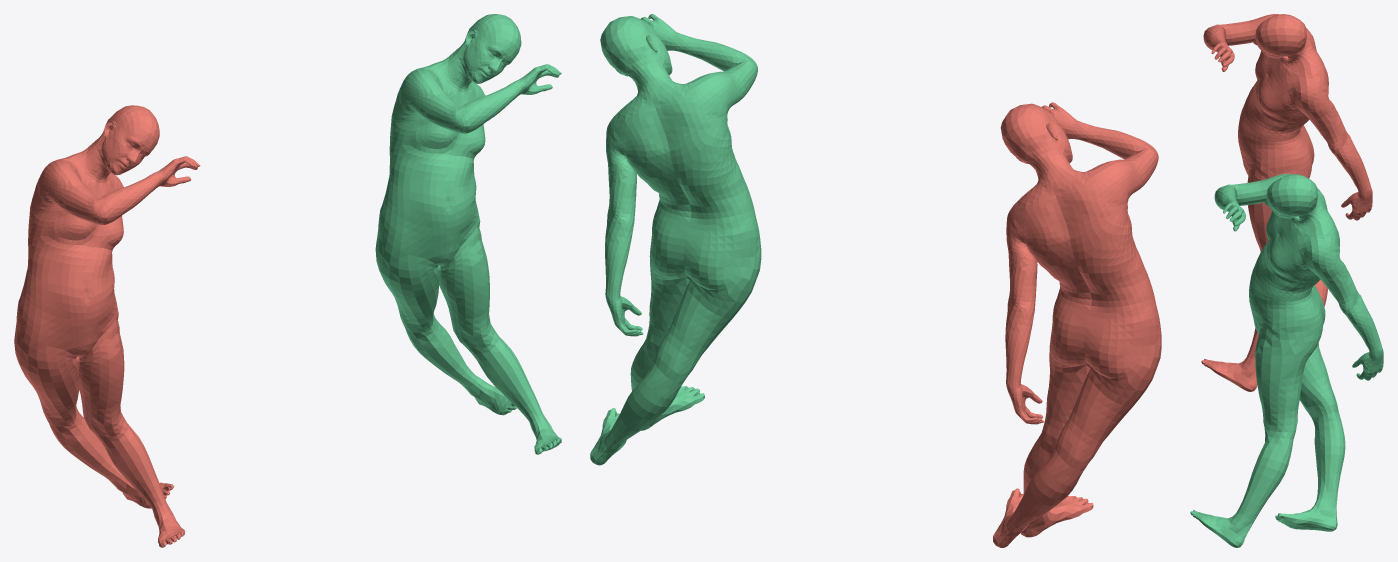
Rendered from pose_399_before_after.glb.
3 renders of one model, left to right at view 1: azimuth 30°, elevation 25°; view 2: azimuth 150°, elevation 25°; view 3: azimuth 270°, elevation 25°, orthographic. The views are drawn at different scales.
Parts seen in each view (by area): view 1: poseshield_green, input_red; view 2: input_red, poseshield_green; view 3: poseshield_green, input_red.
Boxes of the visible parts, x1,y1,x2,y2 form: poseshield_green: [375, 14, 561, 454]; input_red: [14, 105, 200, 547]; input_red: [993, 102, 1161, 547]; poseshield_green: [590, 14, 761, 465]; poseshield_green: [1190, 174, 1383, 547]; input_red: [1201, 14, 1372, 391].
Size of what is drawn, in the model's own units: 2.02 by 1.57 by 0.7487.
